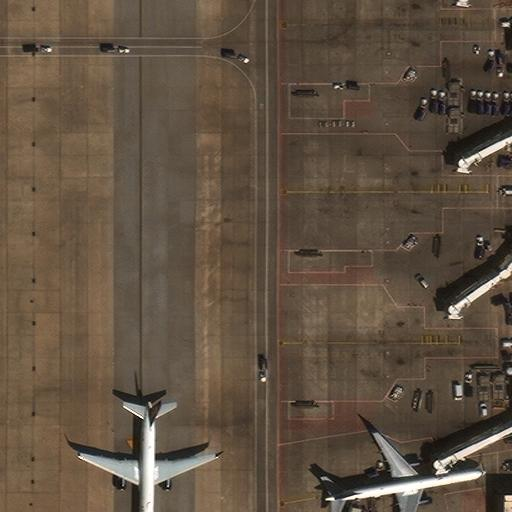Large Civil Transport: (77, 399, 219, 512), (323, 431, 486, 512)
